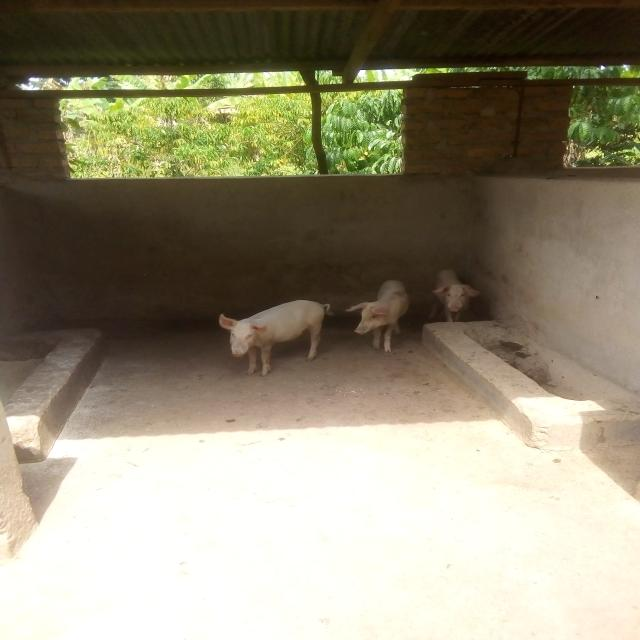pig: (184, 291, 356, 387)
